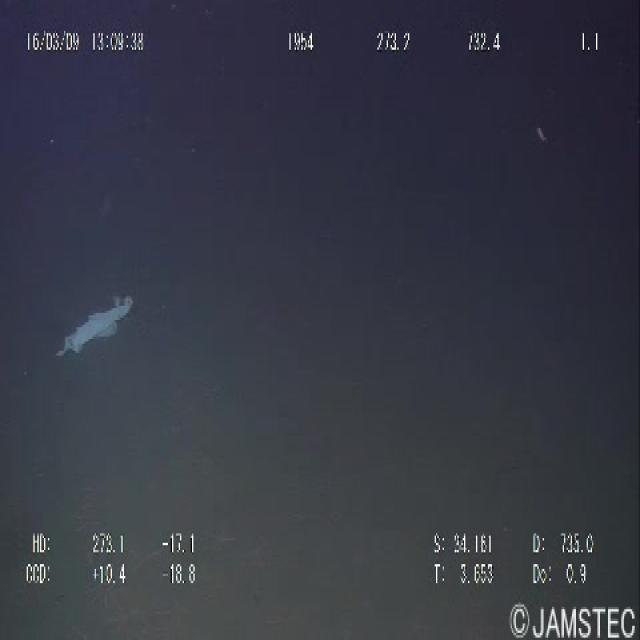plastic: (49, 275, 143, 372)
